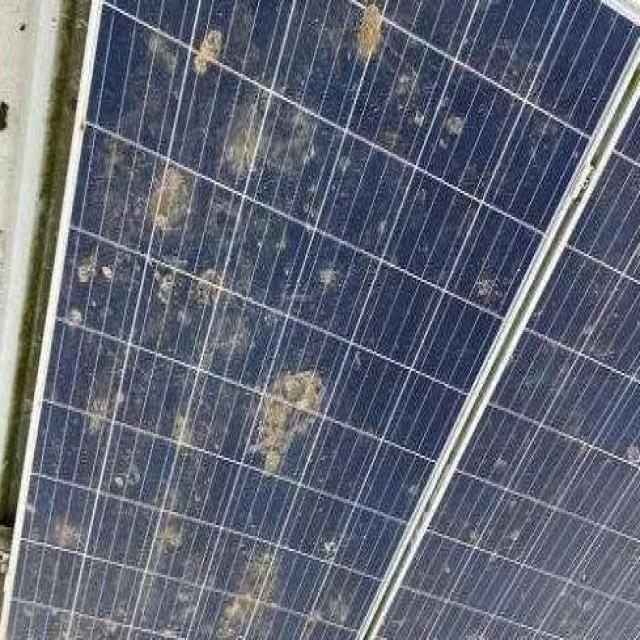soiled: (11, 0, 634, 638)
